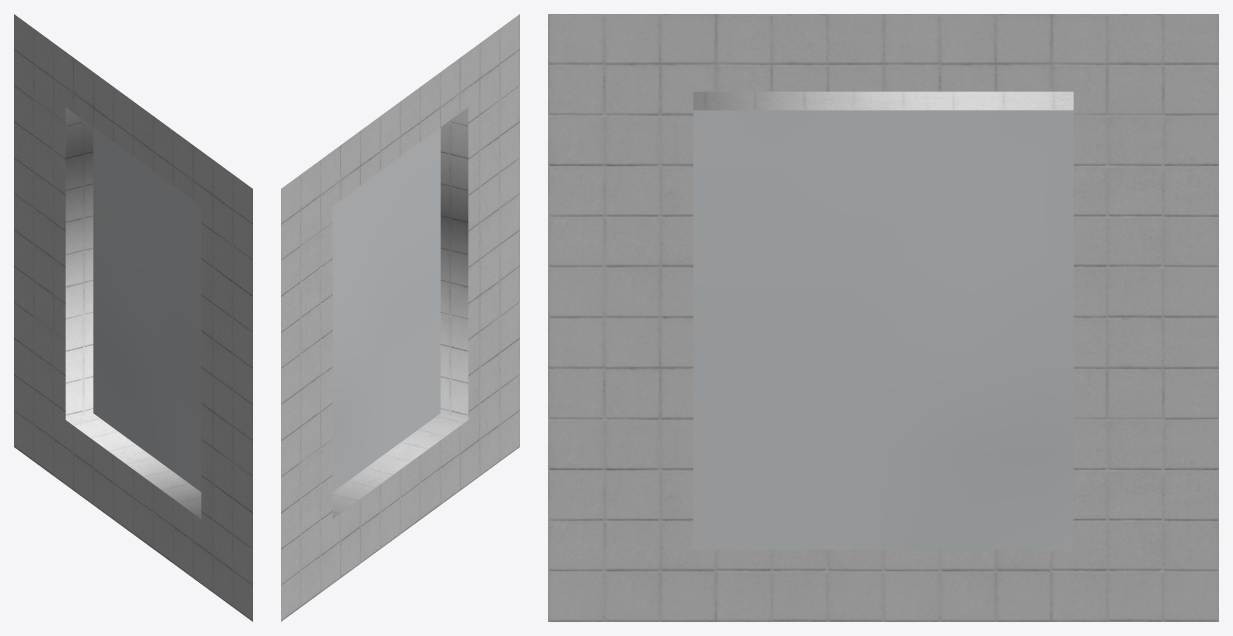
The model's file is wall w 2.fbx.
The picture shows the model from 3 angles, left to right: view 1: azimuth 30°, elevation 25°; view 2: azimuth 150°, elevation 25°; view 3: azimuth 270°, elevation 25°; orthographic projection. The views are drawn at different scales.
Visible parts, largest first — view 1: wall_w_2; view 2: wall_w_2; view 3: wall_w_2.
Part boxes in pixels (x1,y1,x2,y2): wall_w_2: (14,14,252,621); wall_w_2: (281,14,519,621); wall_w_2: (548,14,1218,621).
Bounding box in the file's own units: 40 × 600 × 600.
